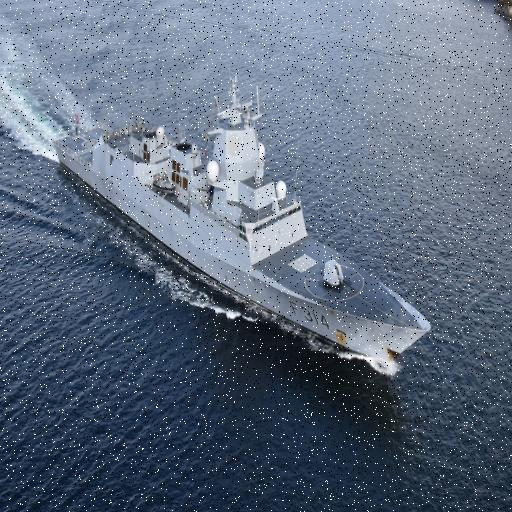Fragata: (51, 66, 434, 367)
